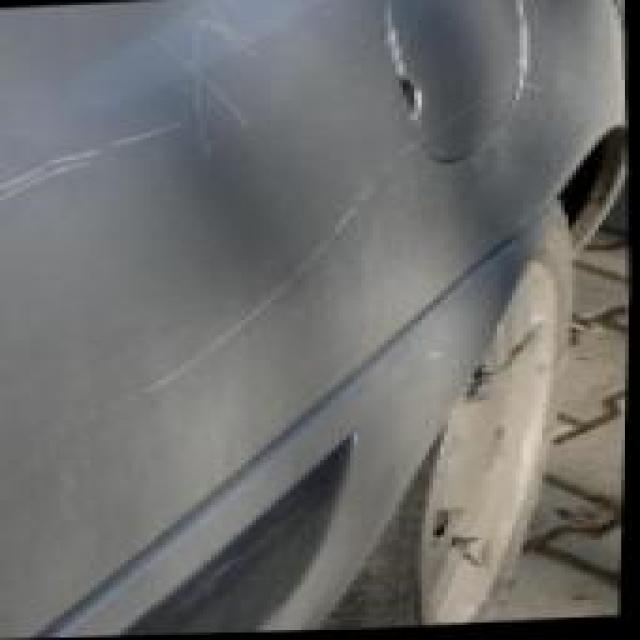Fender: (0, 0, 572, 425)
